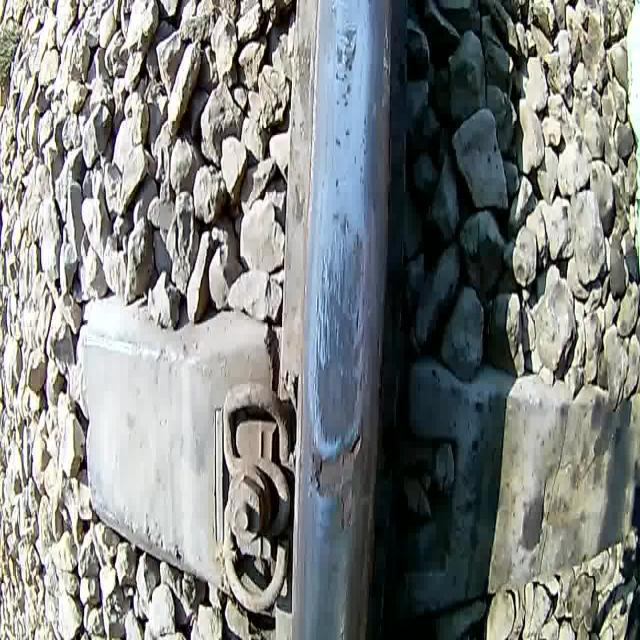Spallings: (306, 422, 367, 544)
Squats: (311, 204, 372, 448), (329, 12, 360, 148)
